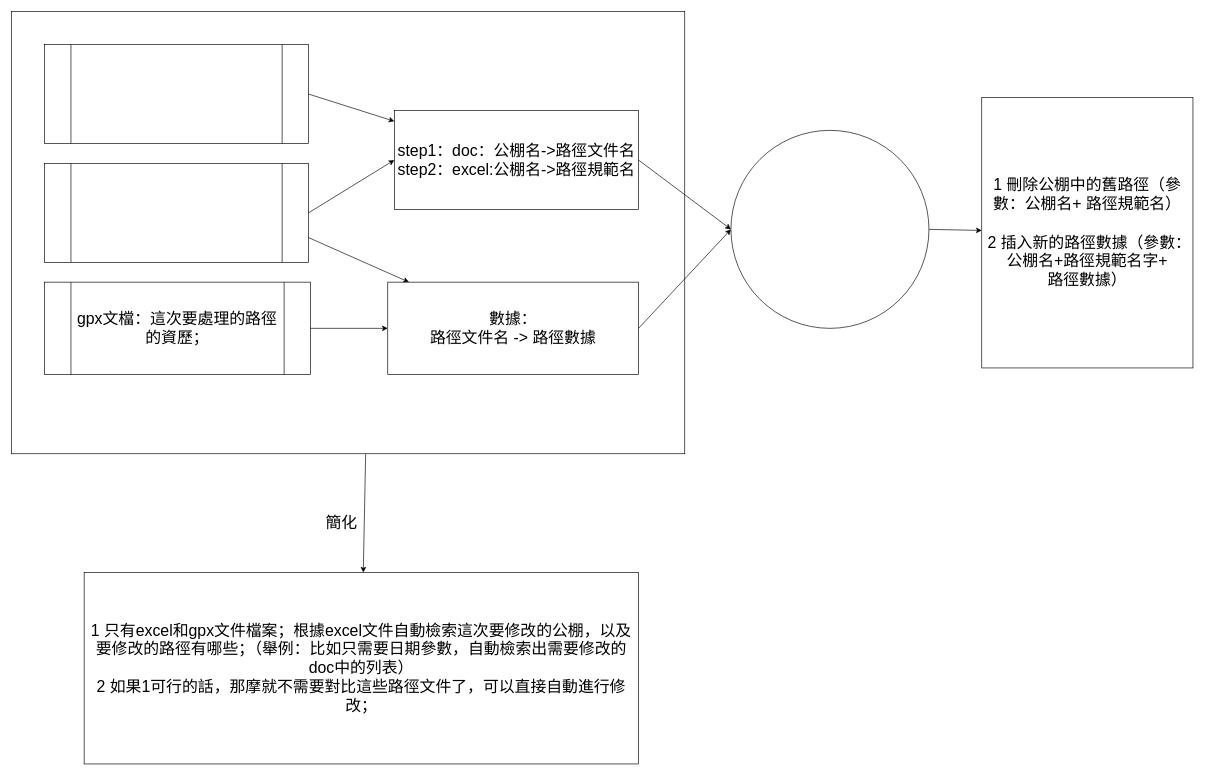
This 1205x776 diagram has some shape labels left out. The centre of each missing label's shape, as x and y in pixels:
"doc：任務要處理的公棚：公棚中要處理的路徑" goes at point 176,212.
"excel：所有公棚，公棚的路徑，新增路徑（有日期）" goes at point 176,94.
